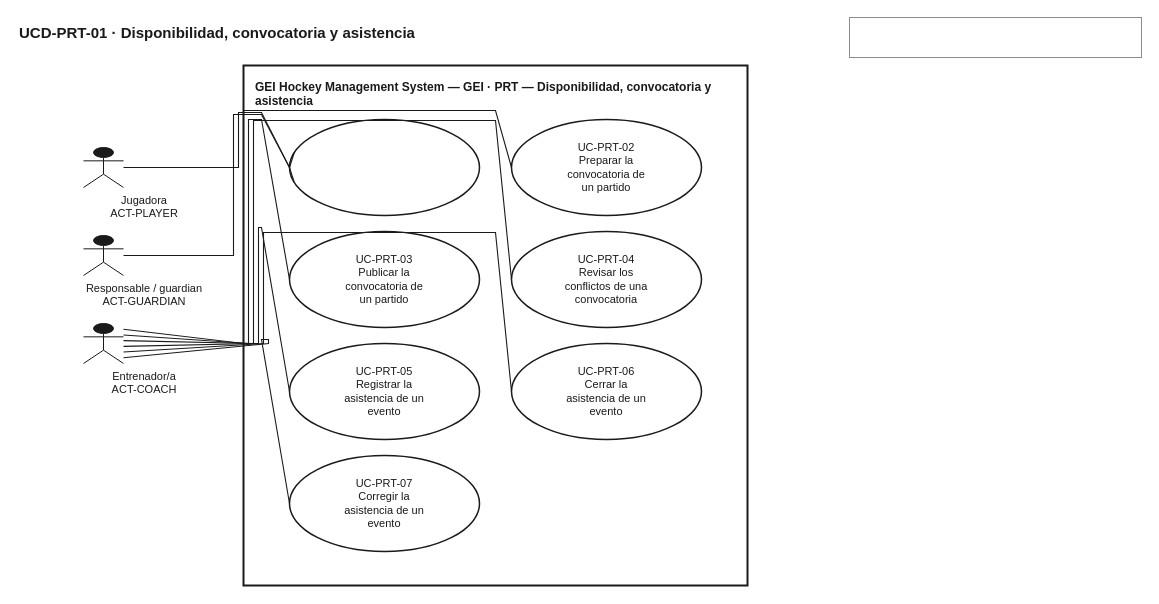
Some shapes in this 1159 by 604 pixel diagram are drawn without their labels. The shapes that lost their labels are listed below. From the top down, each one's centre as x and y in pixels, then its label:
At [995,37]: "UC-PRT-07 y UC-PRT-04 son CU hermanos: no hay include ni extend.".
At [384,167]: "UC-PRT-01 Responder mi disponibilidad".
